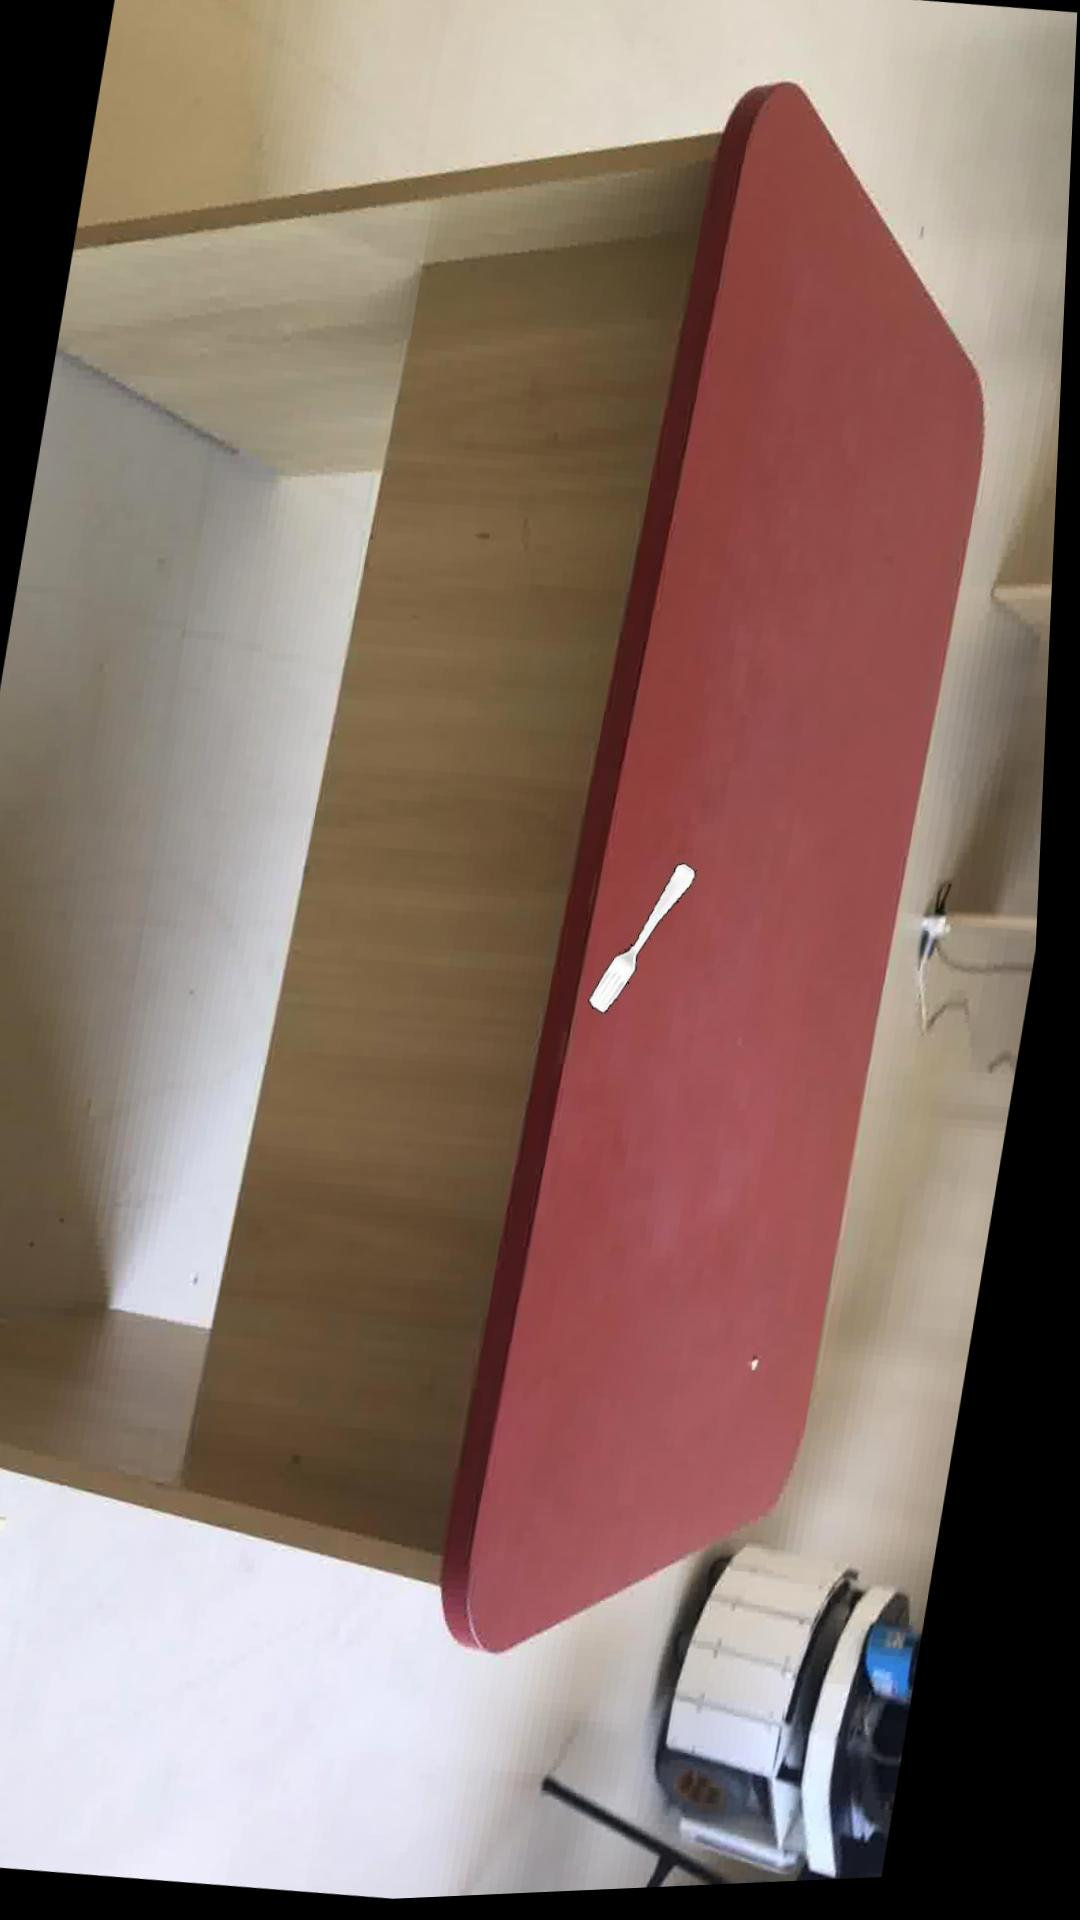fork: (595, 870, 702, 1019)
